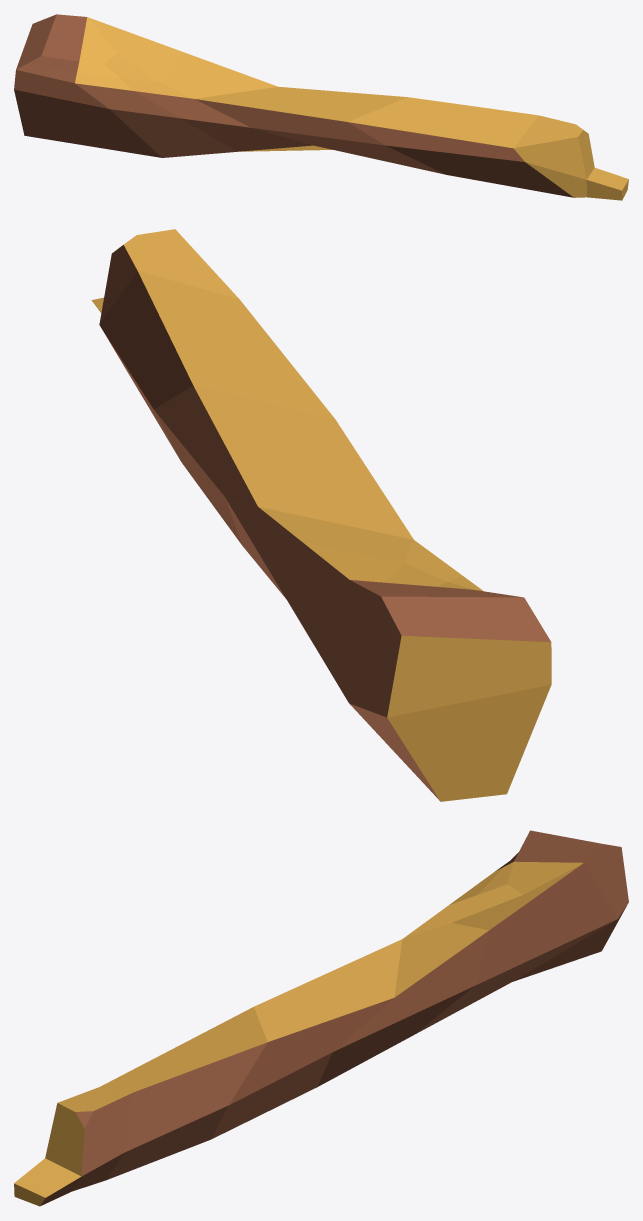
The model's file is log_1.fbx.
The picture shows the model from 3 angles, top to bottom: view 1: azimuth 30°, elevation 25°; view 2: azimuth 150°, elevation 25°; view 3: azimuth 270°, elevation 25°; orthographic projection. The views are drawn at different scales.
Visible parts, largest first — view 1: log_1; view 2: log_1; view 3: log_1.
Part boxes in pixels (x1,y1,x2,y2): log_1: (14, 14, 628, 200); log_1: (91, 229, 551, 801); log_1: (14, 830, 628, 1206).
Size of the model in its own units: 467 by 110 by 451.
